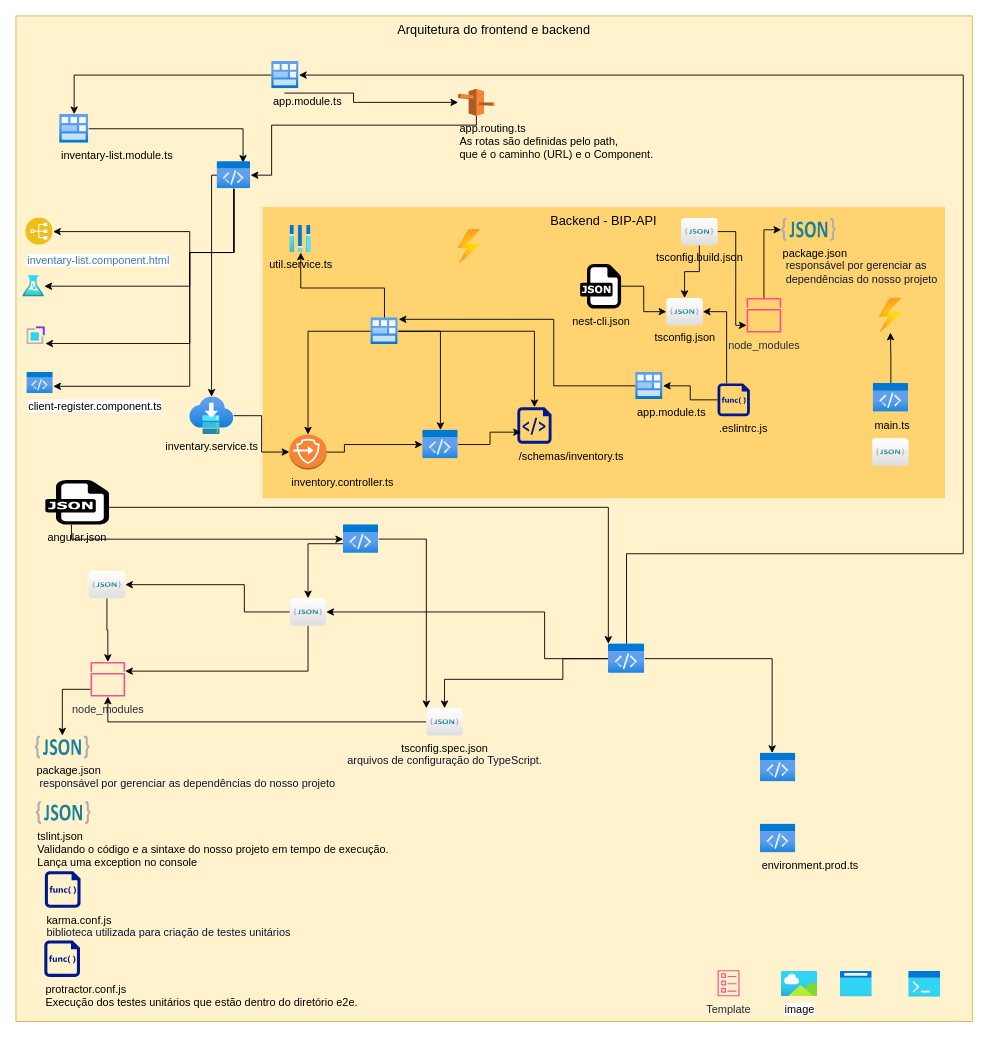
The diagram is 988 pixels wide and 1037 high, and some of its shapes have lost their labels. Each missing label, with the centre of its shape:
"/inventory/ inventory.service.ts" goes at (440,444).
"Browser" goes at (856,983).
"dev.env" goes at (890,315).
"environment.ts Configuração dos ambientes da aplicação" goes at (777,767).
"inventary-list.component.scss" goes at (35,335).
"inventary-list.component.spec.ts" goes at (33,286).
"inventary-list.component.ts" goes at (233,174).
"inventory.module.ts" goes at (384,330).
"inventory.provider.ts" goes at (469,246).
"launch.json" goes at (890,451).
"main.ts arquivo principal da nossa Solution" goes at (626,658).
"polyfills.ts arquivo funciona como um tradutor." goes at (360,538).
"Powershell" goes at (924,984).
"tsconfig.app.json arquivos de configuração do TypeScript." goes at (307,611).
"tsconfig.json configuração do TypeScript." goes at (106,584).
